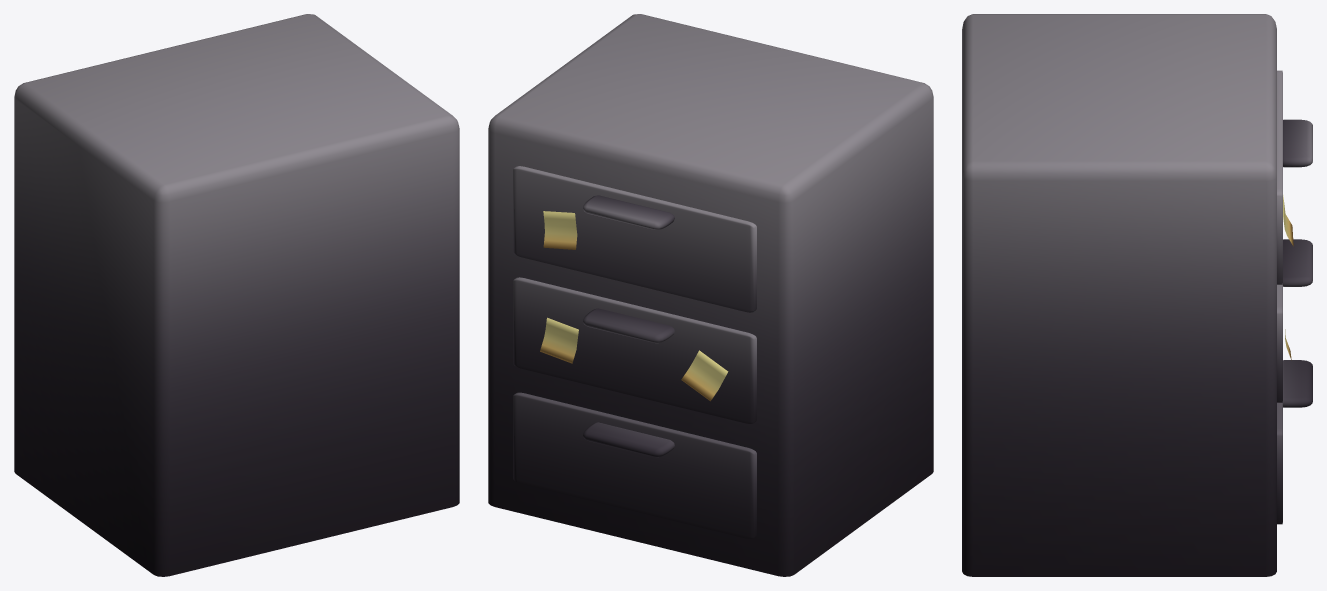
The model's file is mesh_cabinet_w_post_its_001.fbx.
The picture shows the model from 3 angles, left to right: view 1: azimuth 30°, elevation 25°; view 2: azimuth 150°, elevation 25°; view 3: azimuth 270°, elevation 25°; orthographic projection. The views are drawn at different scales.
Visible parts, largest first — view 1: cabinet_w_postits; view 2: cabinet_w_postits; view 3: cabinet_w_postits.
Boxes of the visible parts, bbox=[...] form: cabinet_w_postits: bbox=[14, 14, 459, 576]; cabinet_w_postits: bbox=[488, 14, 933, 576]; cabinet_w_postits: bbox=[962, 14, 1312, 576].
Bounding box in the file's own units: 114 × 138 × 107.
